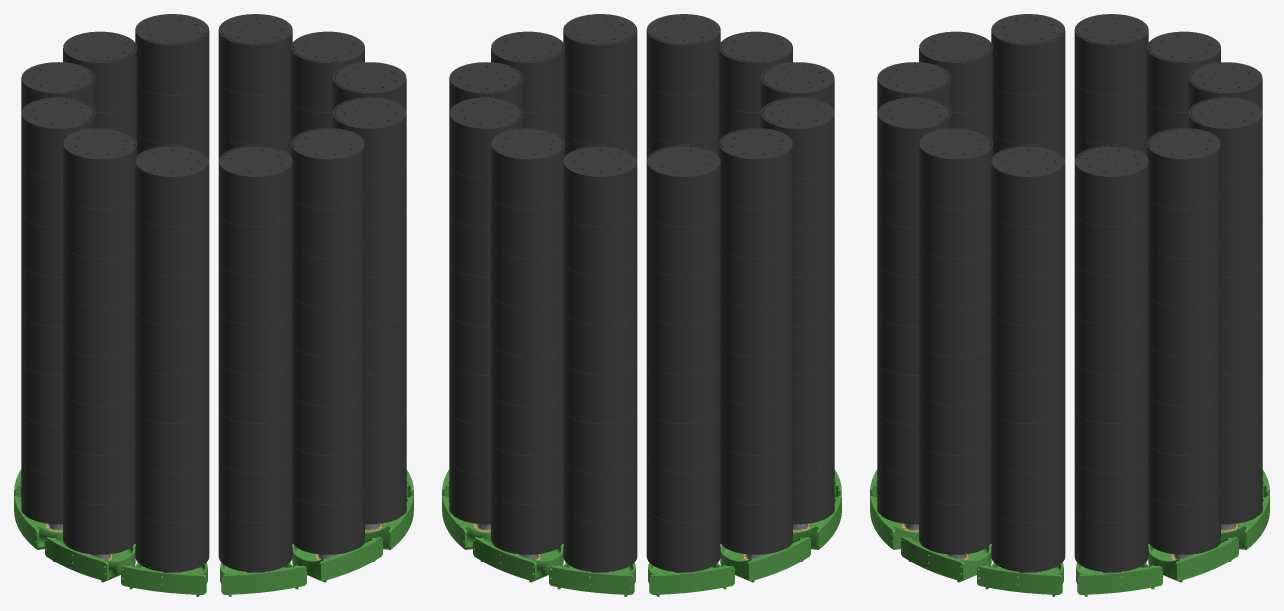
File: f2_reactivity.glb
3 views of the same model, side by side, from view 1: azimuth 30°, elevation 25°; view 2: azimuth 150°, elevation 25°; view 3: azimuth 270°, elevation 25° (orthographic).
Visible parts, largest first — view 1: f2_reactivity; view 2: f2_reactivity; view 3: f2_reactivity.
Boxes of the visible parts, x1,y1,x2,y2 form: f2_reactivity: (14, 14, 413, 596); f2_reactivity: (442, 14, 841, 596); f2_reactivity: (870, 14, 1269, 596).
Size of the model in its own units: 2.16 by 2.52 by 2.16.
